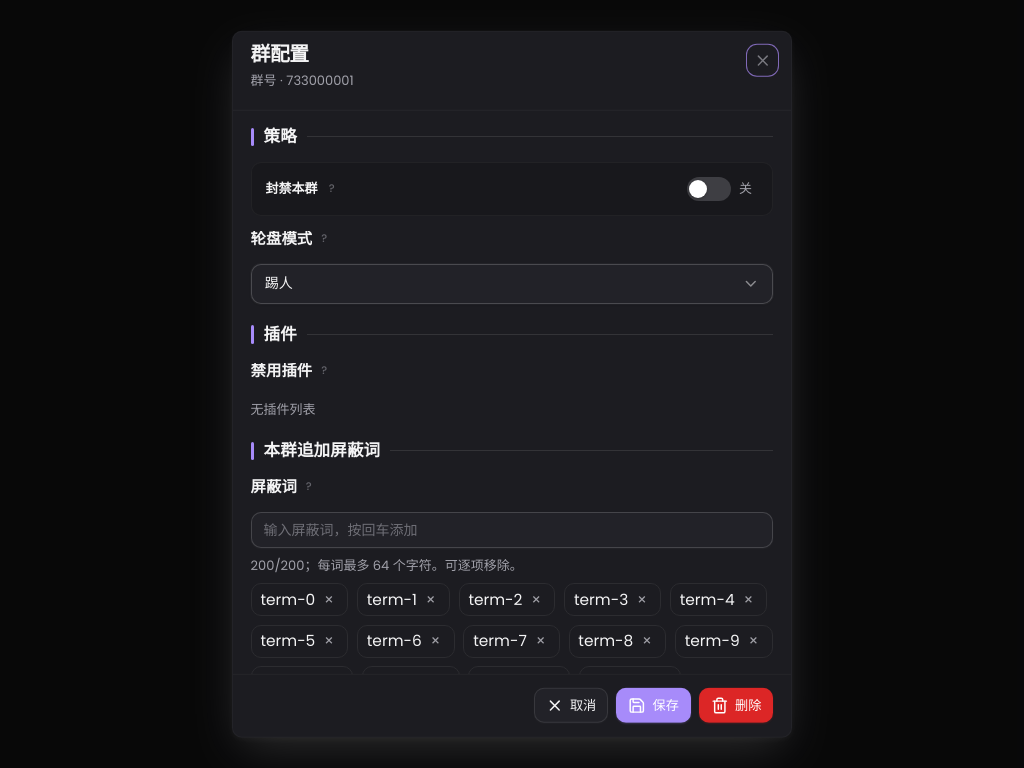
it: validates the 200-term limit without sending a save
This screenshot has width=1024, height=768.
Step 1. Type "extra" into the field named "添加本群屏蔽词" → (512, 530), box [251,512,773,548]
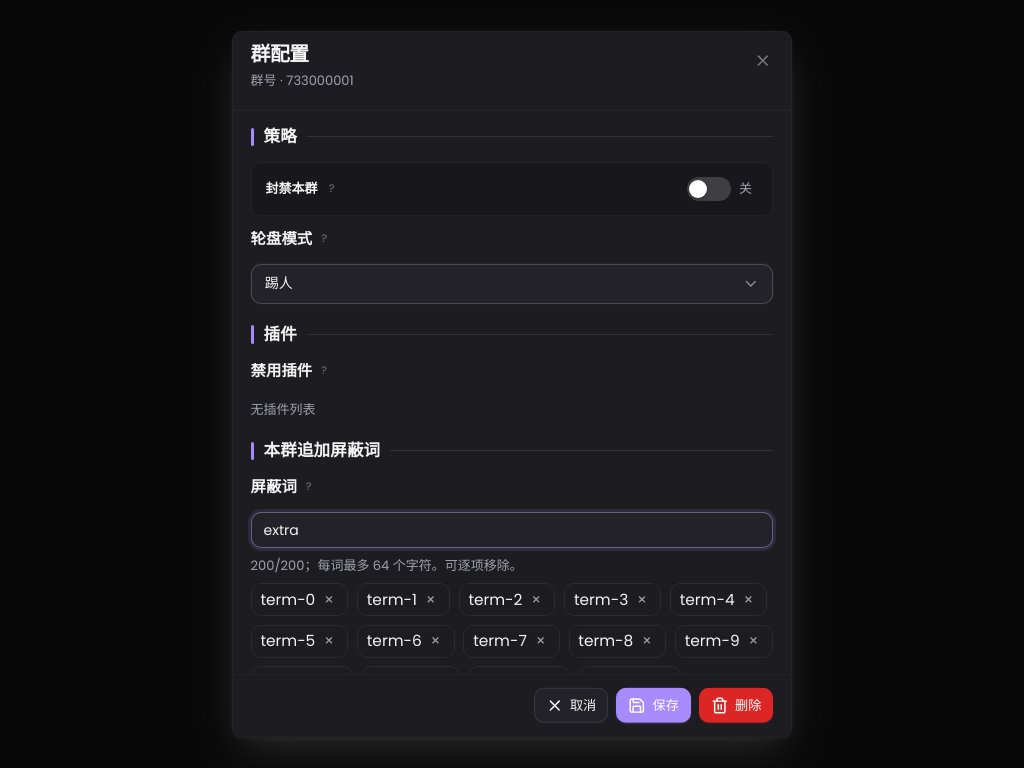
Step 2. Click the button "保存" → (654, 706), box [616,688,691,723]
(page scrolled)
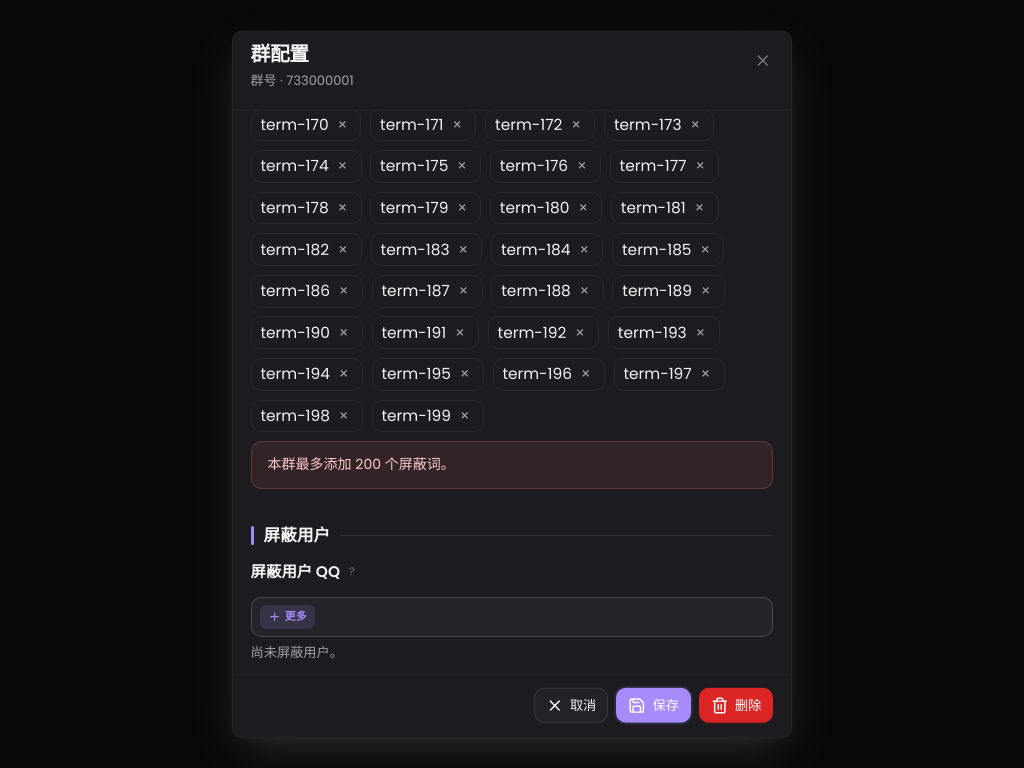
Check: the message shows "最多添加 200 个", box [268,454,455,474]
